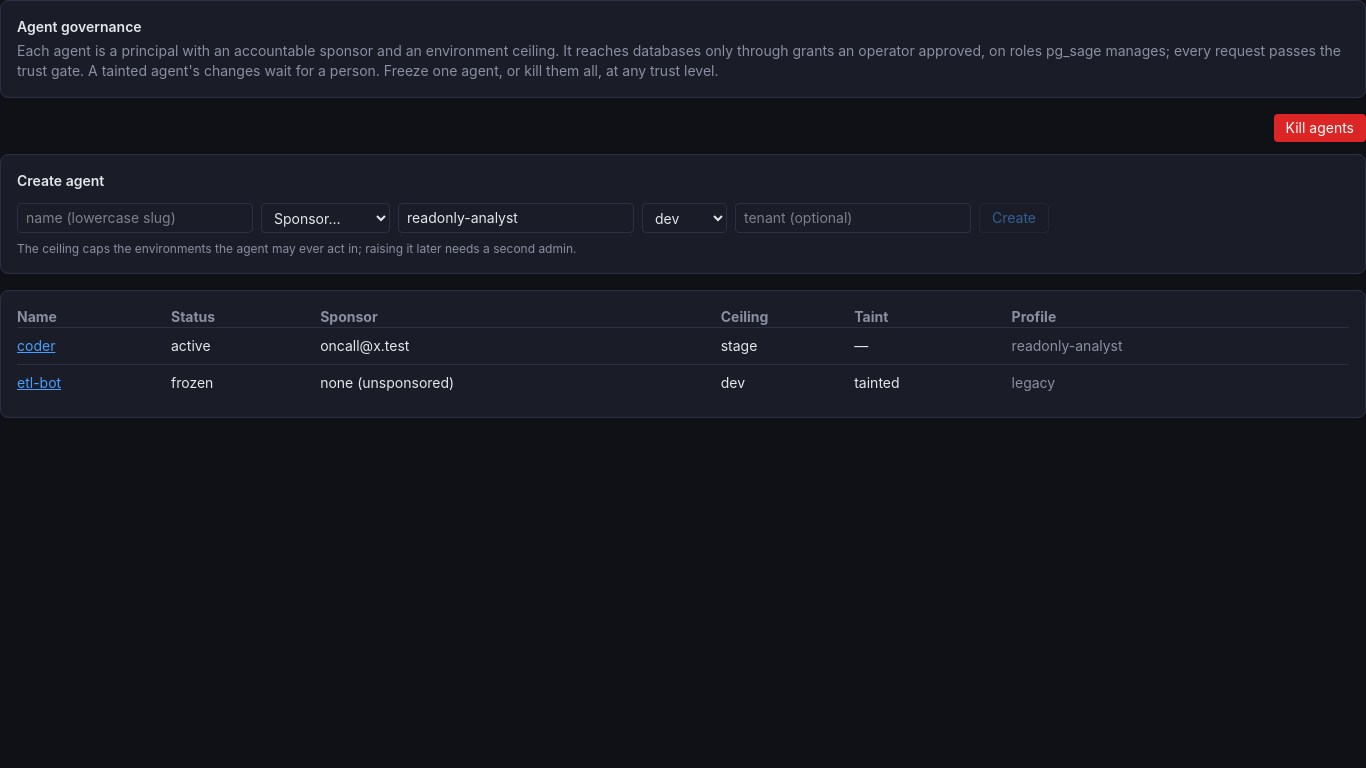
Test: AgentsPage list › opens an agent
Expected: the table with test id "agents-table" is shown, [17,307,1349,401]
Click the button with test id "agent-open-coder": coordinates (36, 346) [17,336,55,356]
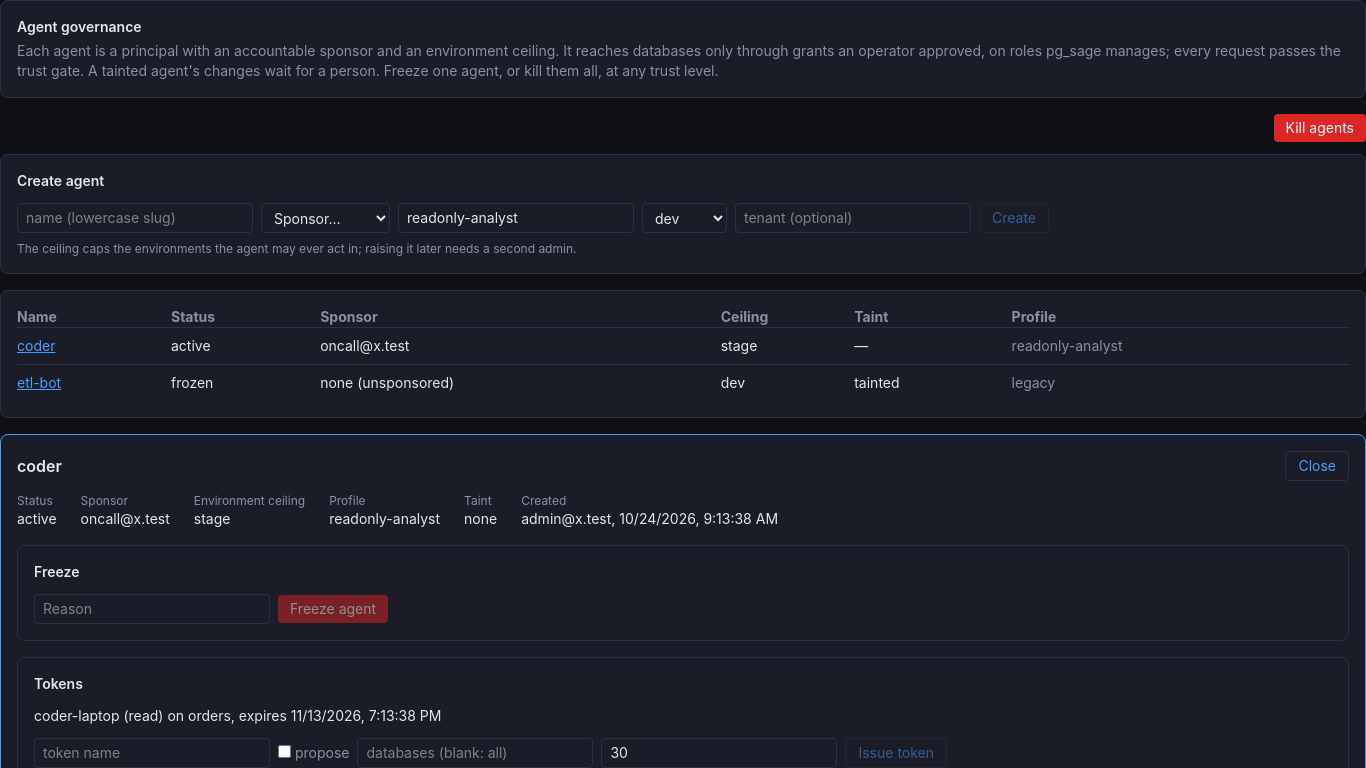
Now the text "active" is shown, box [17,509,57,529]
Now the heading with test id "agent-detail-name" reads "coder", box [17,456,62,476]
